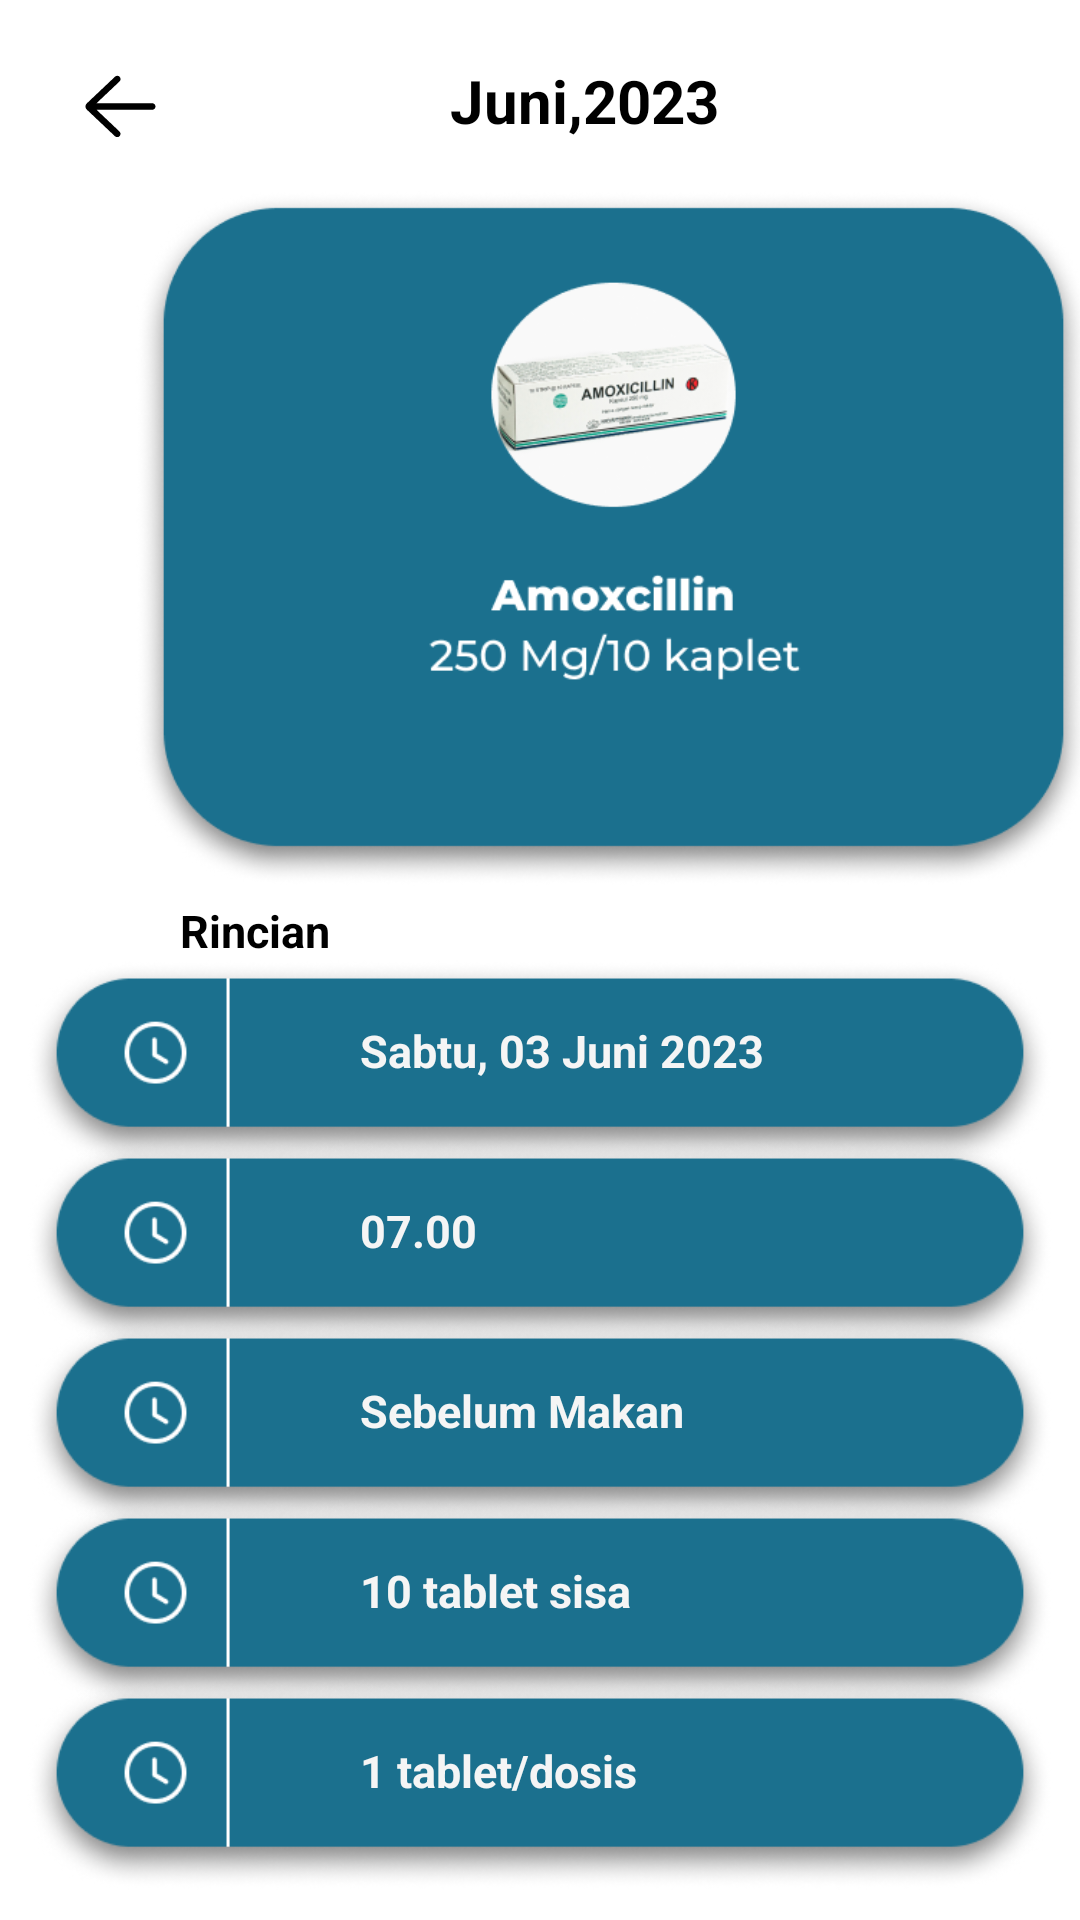

Icons on this 1080*1920 Android screen, each with the point to tap as point (x, y):
back: point (120, 106)
